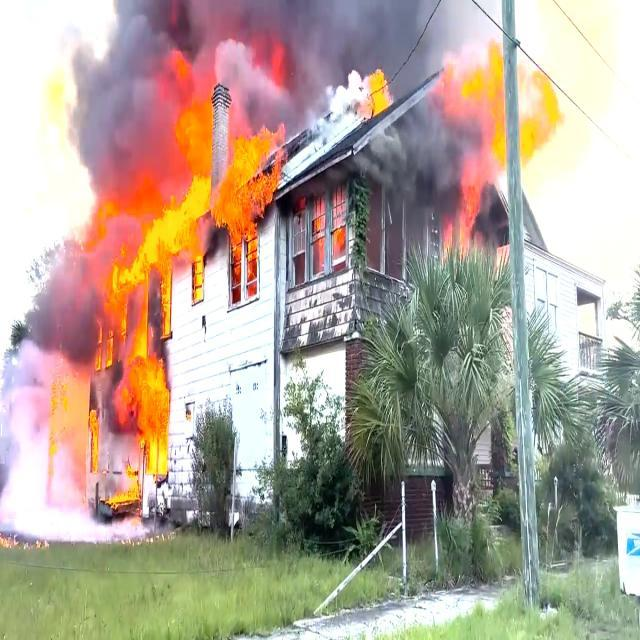Fire: (212, 149, 274, 255), (126, 356, 168, 472), (472, 48, 502, 202), (136, 216, 176, 324), (172, 187, 216, 265), (514, 74, 550, 165), (107, 267, 128, 326), (87, 408, 105, 464)
Smoke: (125, 0, 431, 74), (79, 82, 185, 172)
